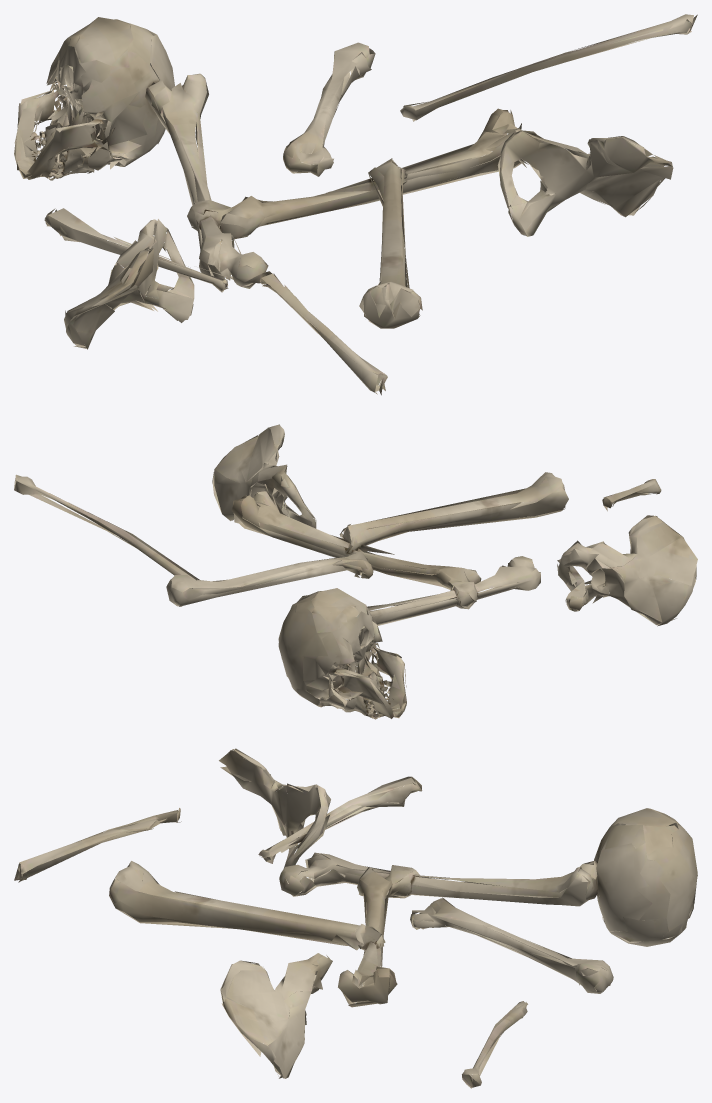
The model's file is bones_pile.glb.
The picture shows the model from 3 angles, top to bottom: view 1: azimuth 30°, elevation 25°; view 2: azimuth 150°, elevation 25°; view 3: azimuth 270°, elevation 25°; orthographic projection. The views are drawn at different scales.
Visible parts, largest first — view 1: bones_pile; view 2: bones_pile; view 3: bones_pile.
Boxes of the visible parts, x1,y1,x2,y2 form: bones_pile: (14,14,697,395); bones_pile: (14,424,697,719); bones_pile: (14,748,697,1088).
Bounding box in the file's own units: 1.09 × 0.1992 × 0.9373.
Materials: 1 (1 with a texture image).
